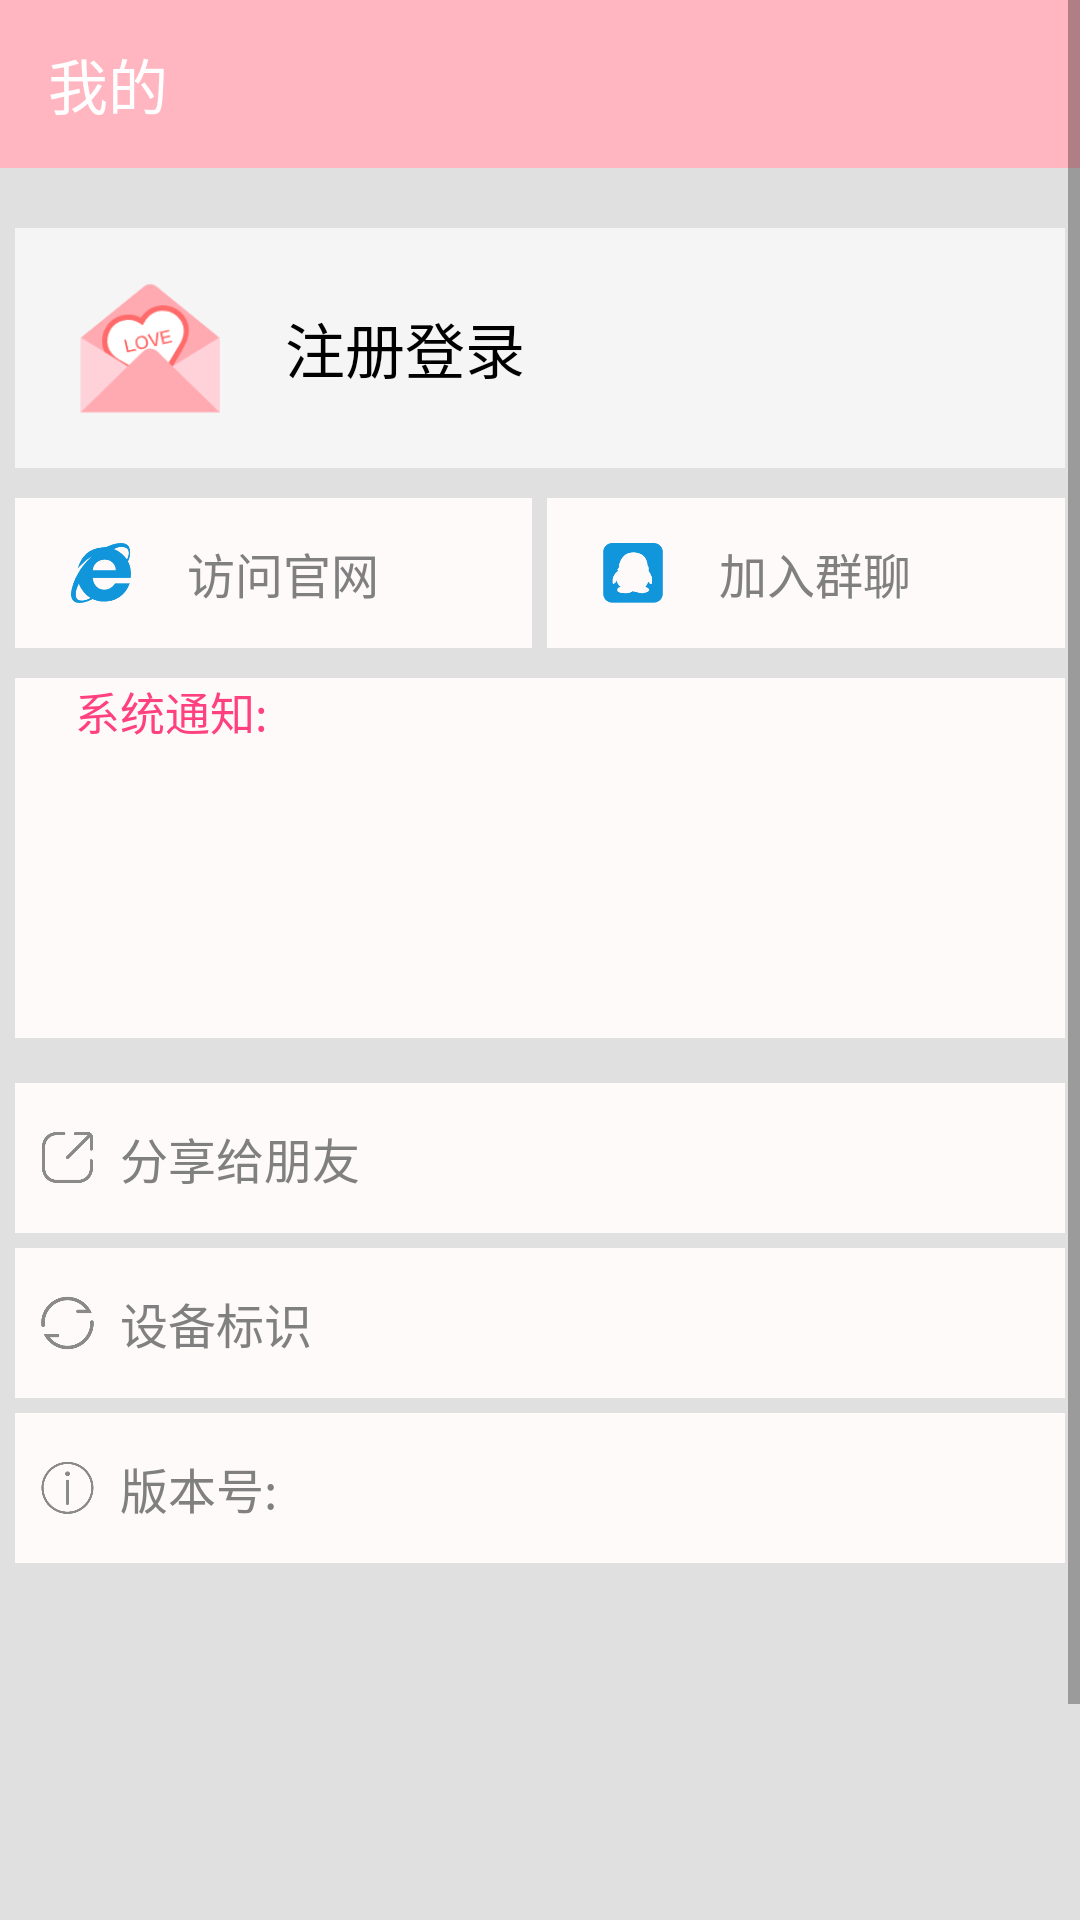

Screen size 1080×1920. Icon name, then its box in pixels as {"x1": x1, "y1": y1, "x2": x2, "y2": y2}:
update: {"x1": 41, "y1": 1297, "x2": 94, "y2": 1349}
